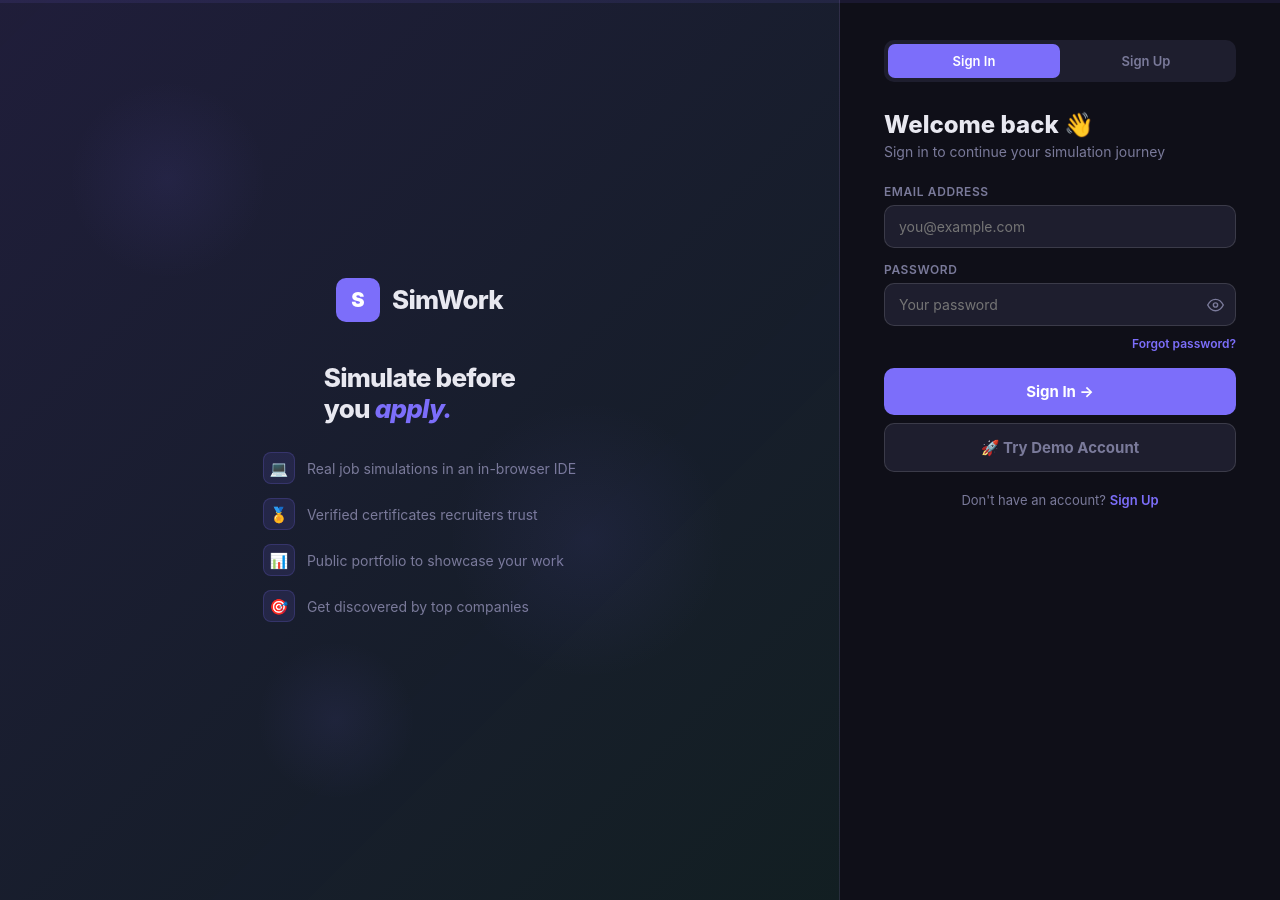
Scenario: 🔐 Auth Page › ✅ Shows error on empty login submit
Click the button "Sign In →" at (1060,392), box [884,368,1236,415]
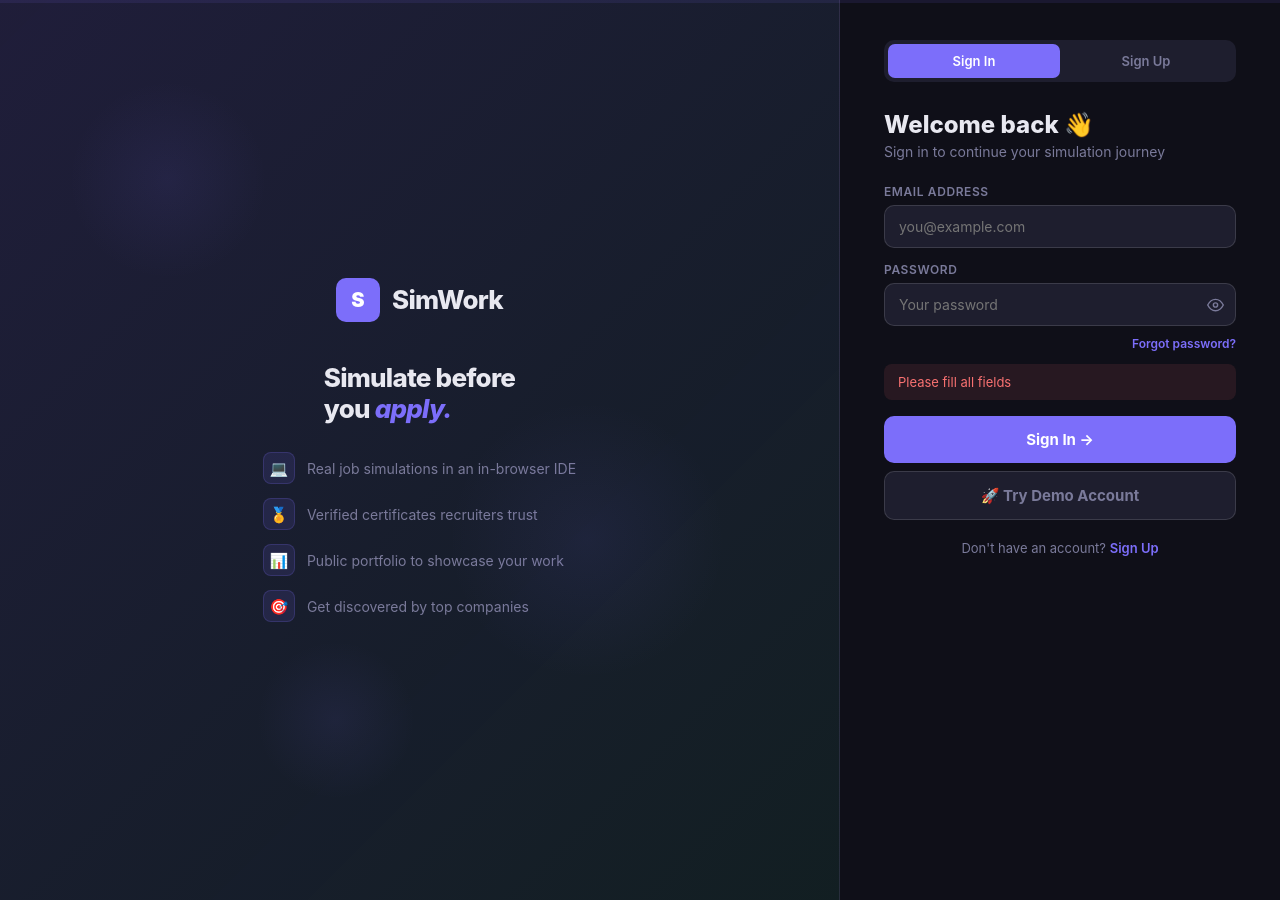
Expected: the text "Please fill all fields" is shown, [884,364,1236,400]
